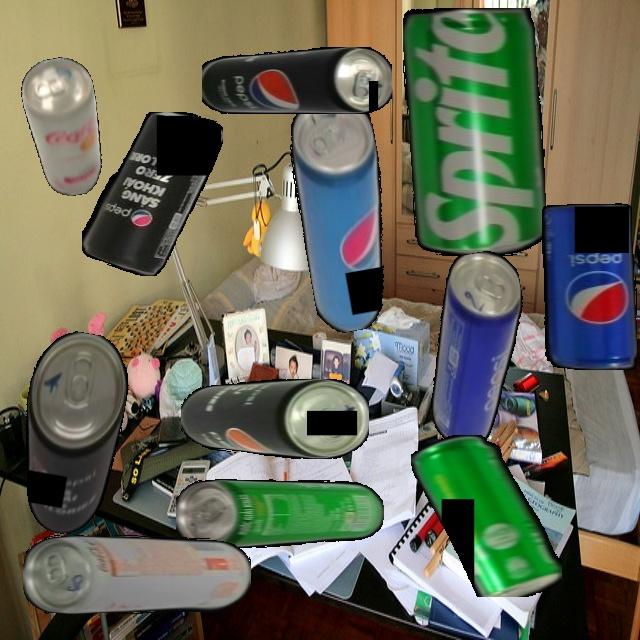debris: (402, 8, 546, 256), (281, 92, 407, 336), (407, 247, 546, 450), (6, 326, 137, 540), (411, 434, 562, 597), (81, 112, 223, 276), (23, 534, 251, 614), (541, 203, 637, 370), (180, 379, 369, 459), (176, 478, 384, 548), (17, 53, 111, 201), (201, 47, 392, 114)
